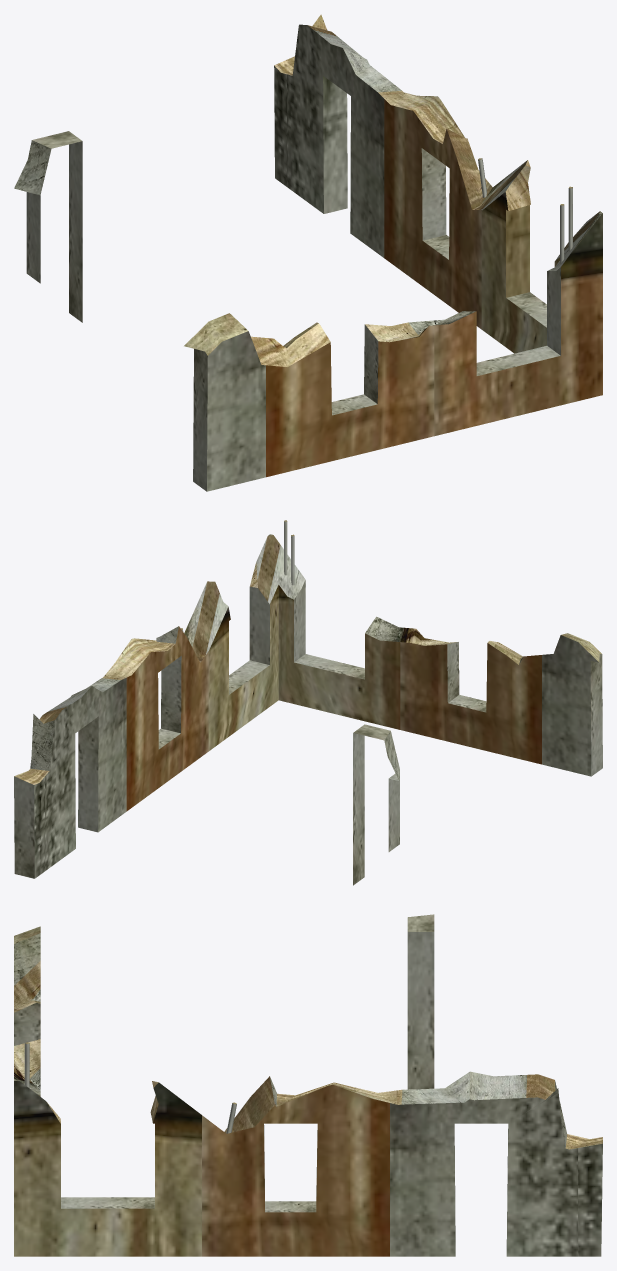
The model's file is wall-corner.glb.
3 views of the same model, one above another, from view 1: azimuth 30°, elevation 25°; view 2: azimuth 150°, elevation 25°; view 3: azimuth 270°, elevation 25° (orthographic). The views are drawn at different scales.
Parts seen in each view (by area): view 1: wall-corner; view 2: wall-corner; view 3: wall-corner.
Part boxes in pixels (box(x1,y1,x2,y2)): wall-corner: box(14, 14, 602, 491); wall-corner: box(14, 520, 602, 885); wall-corner: box(14, 914, 602, 1256).
Bounding box in the file's own units: 9.62 × 4.73 × 12.54.
Materials: 1 (1 with a texture image).
